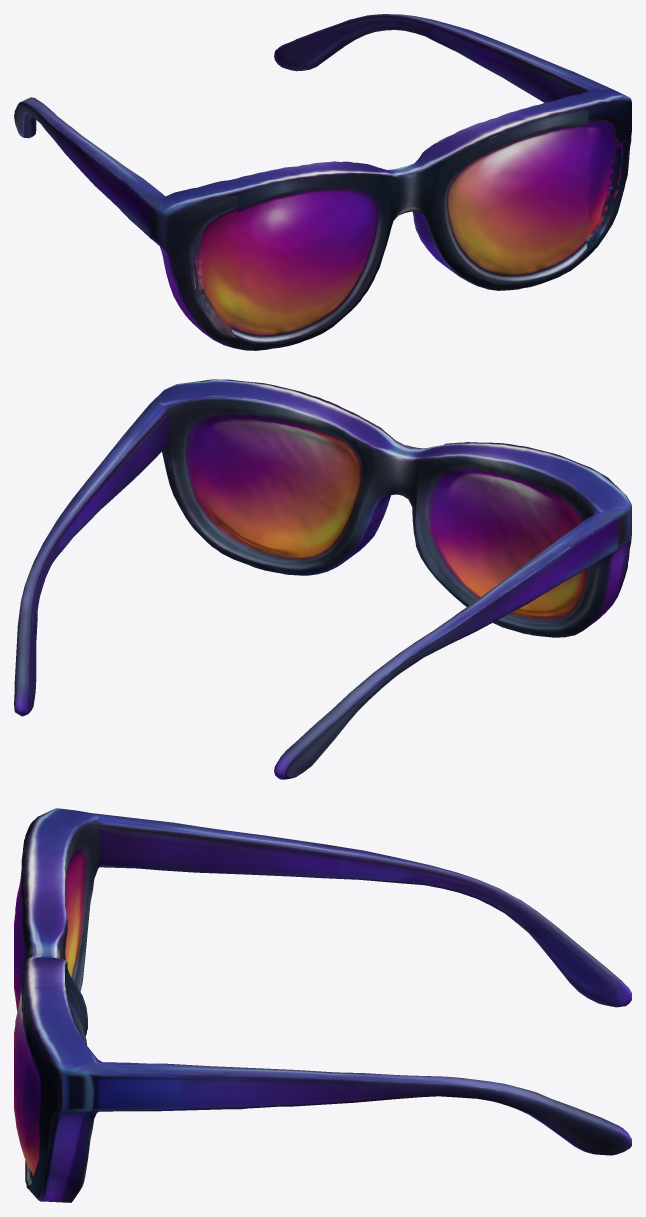
Rendered from Meshy_AI_Glass_0227123110_texture.fbx.
3 renders of one model, top to bottom at view 1: azimuth 30°, elevation 25°; view 2: azimuth 150°, elevation 25°; view 3: azimuth 270°, elevation 25°, orthographic. The views are drawn at different scales.
Parts seen in each view (by area): view 1: Mesh_0; view 2: Mesh_0; view 3: Mesh_0.
Boxes of the visible parts, box(x1,y1,x2,y2) form: Mesh_0: box(14, 14, 631, 350); Mesh_0: box(14, 379, 631, 779); Mesh_0: box(14, 808, 631, 1202).
Bounding box in the file's own units: 191 × 66.14 × 190.
1 material, 1 textured.
